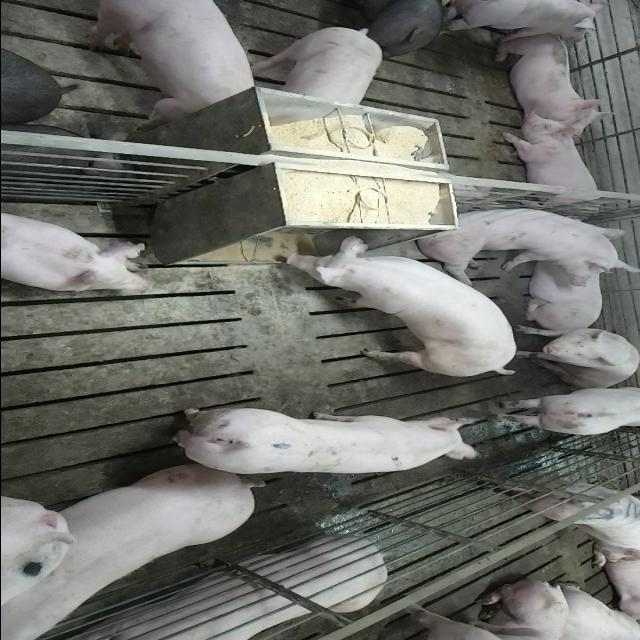Feeding: (268, 230, 516, 372)
Sitting: (410, 200, 634, 280), (514, 324, 640, 388)
Standing: (160, 406, 482, 477), (71, 2, 258, 124), (248, 23, 382, 107), (486, 384, 638, 438), (438, 0, 608, 42), (331, 0, 450, 56)
Sternal_lying: (58, 538, 390, 640), (493, 32, 618, 136), (0, 208, 152, 292), (513, 215, 617, 329), (500, 118, 610, 214)
